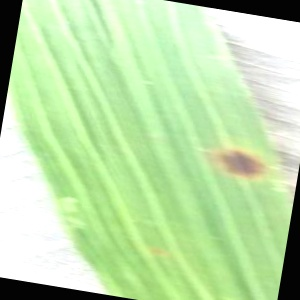Bacterial_Leaf_Blight: (204, 133, 284, 193)
